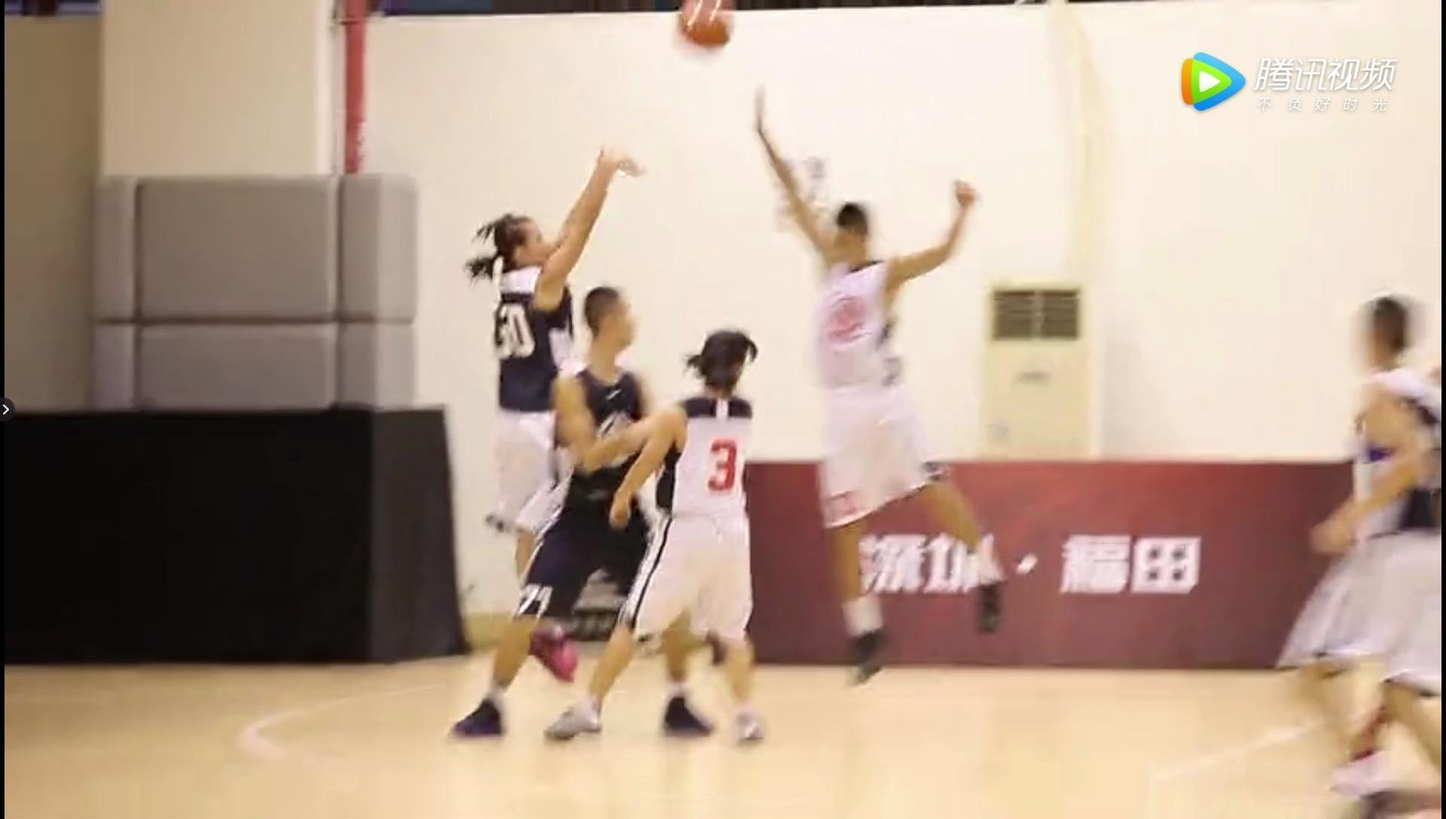ball: (673, 0, 737, 50)
human: (743, 75, 1013, 693), (450, 279, 712, 741), (457, 131, 657, 680), (1263, 286, 1446, 819), (542, 321, 770, 748)
